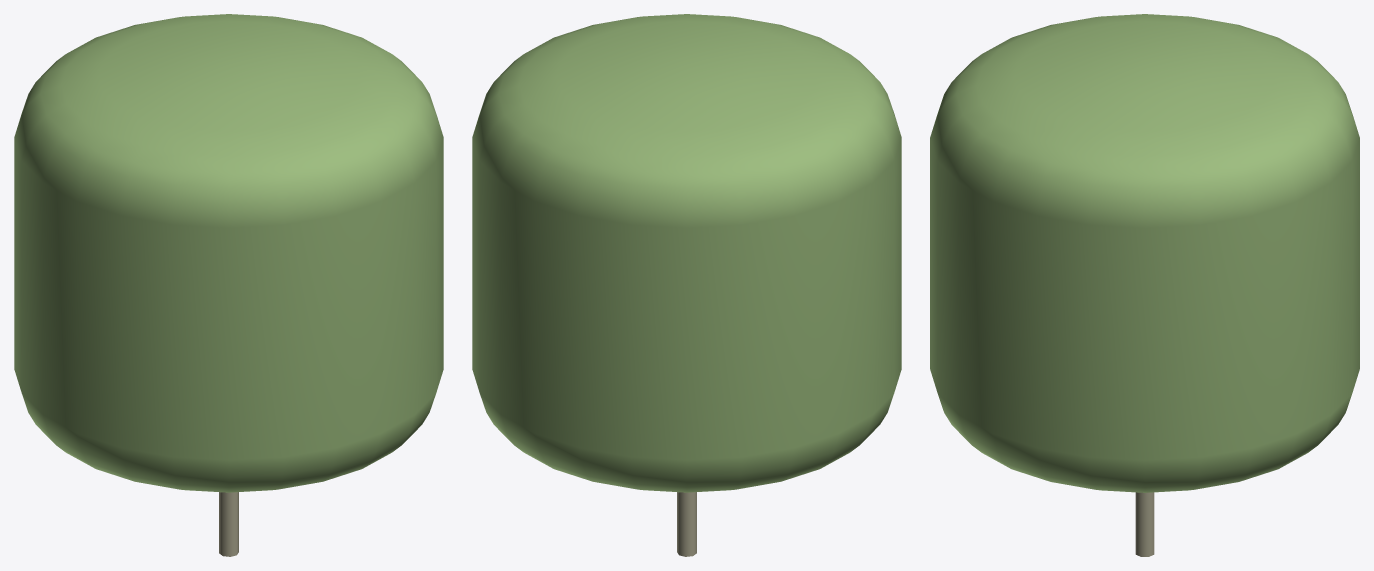
File: MusaAcuminata.glb
3 views of the same model, side by side, from view 1: azimuth 30°, elevation 25°; view 2: azimuth 150°, elevation 25°; view 3: azimuth 270°, elevation 25° (orthographic).
Parts seen in each view (by area): view 1: Banana_Tree__Schematic_LOD3; view 2: Banana_Tree__Schematic_LOD3; view 3: Banana_Tree__Schematic_LOD3.
Part boxes in pixels (x1,y1,x2,y2): Banana_Tree__Schematic_LOD3: (14, 14, 443, 556); Banana_Tree__Schematic_LOD3: (472, 14, 901, 556); Banana_Tree__Schematic_LOD3: (930, 14, 1359, 556).
Size of the model in its own units: 3.86 by 4.82 by 3.86.
